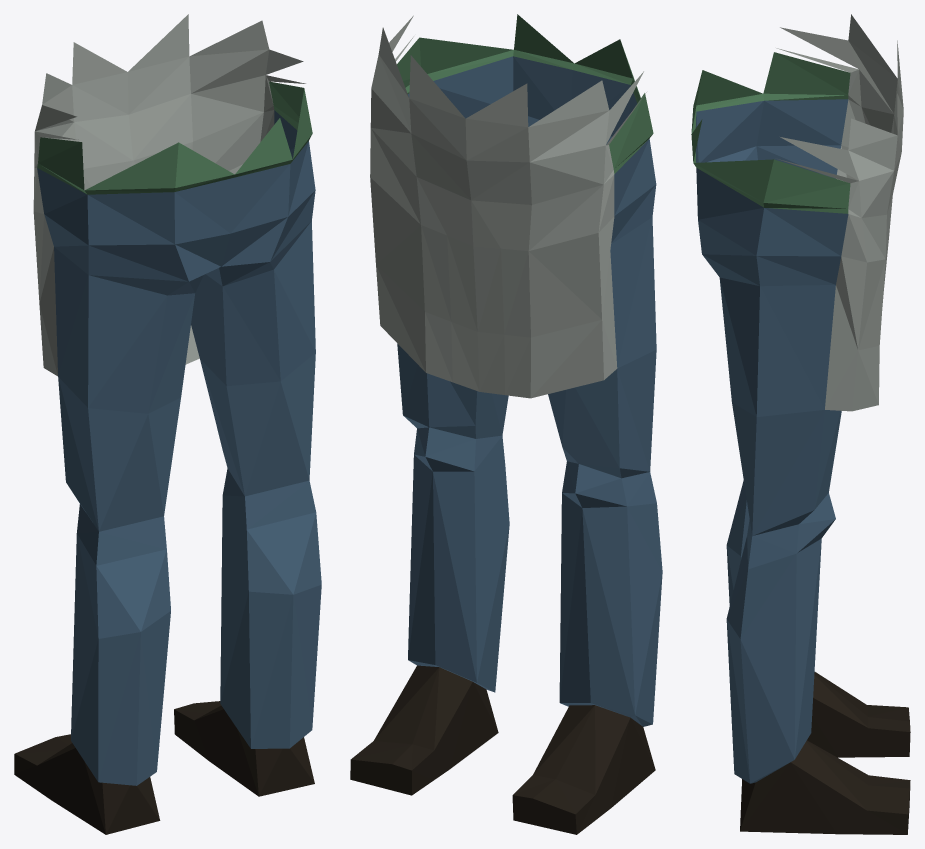
The model's file is Legs.obj.
The picture shows the model from 3 angles, left to right: view 1: azimuth 30°, elevation 25°; view 2: azimuth 150°, elevation 25°; view 3: azimuth 270°, elevation 25°; orthographic projection. The views are drawn at different scales.
Bounding box in the file's own units: 0.3569 × 1.04 × 0.2882.
1 material, 1 textured.
